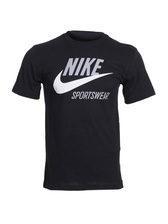clothoes: (12, 28, 157, 193)
